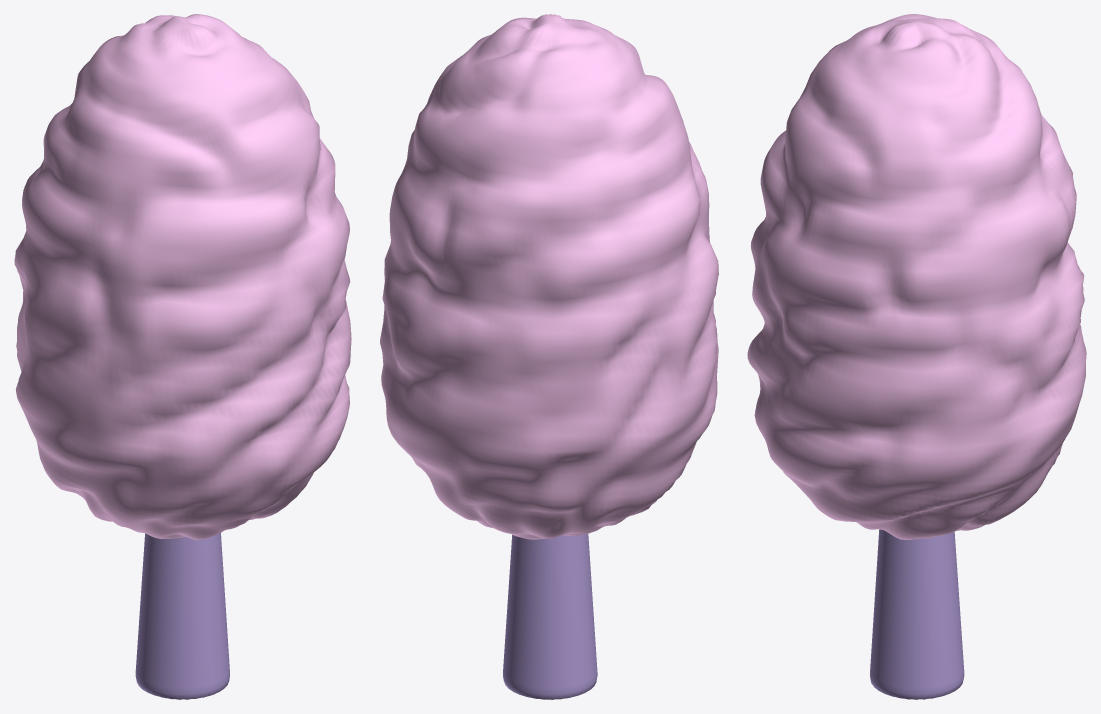
The model's file is cottontree.fbx.
3 views of the same model, side by side, from view 1: azimuth 30°, elevation 25°; view 2: azimuth 150°, elevation 25°; view 3: azimuth 270°, elevation 25° (orthographic).
Parts seen in each view (by area): view 1: Cylinder.008; view 2: Cylinder.008; view 3: Cylinder.008.
Part boxes in pixels (x1,y1,x2,y2): Cylinder.008: (14,14,351,699); Cylinder.008: (380,14,718,699); Cylinder.008: (747,14,1086,699).
Bounding box in the file's own units: 233 × 500 × 232.
